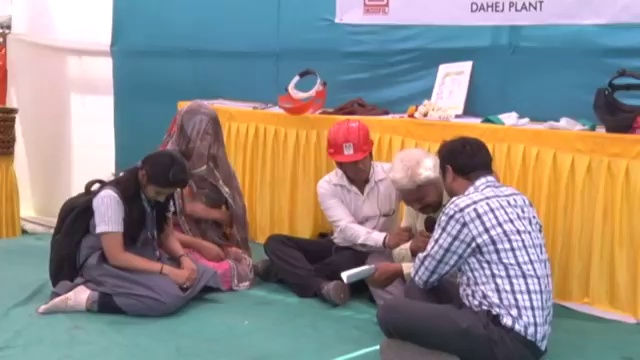helmet: (321, 116, 374, 161)
helmet_off: (166, 107, 227, 168), (438, 136, 494, 198), (130, 153, 190, 208), (399, 144, 445, 208)
helmet_on: (322, 119, 382, 191)
person: (380, 137, 556, 359), (38, 147, 213, 320), (257, 102, 408, 300), (164, 97, 254, 291), (363, 150, 447, 302)
